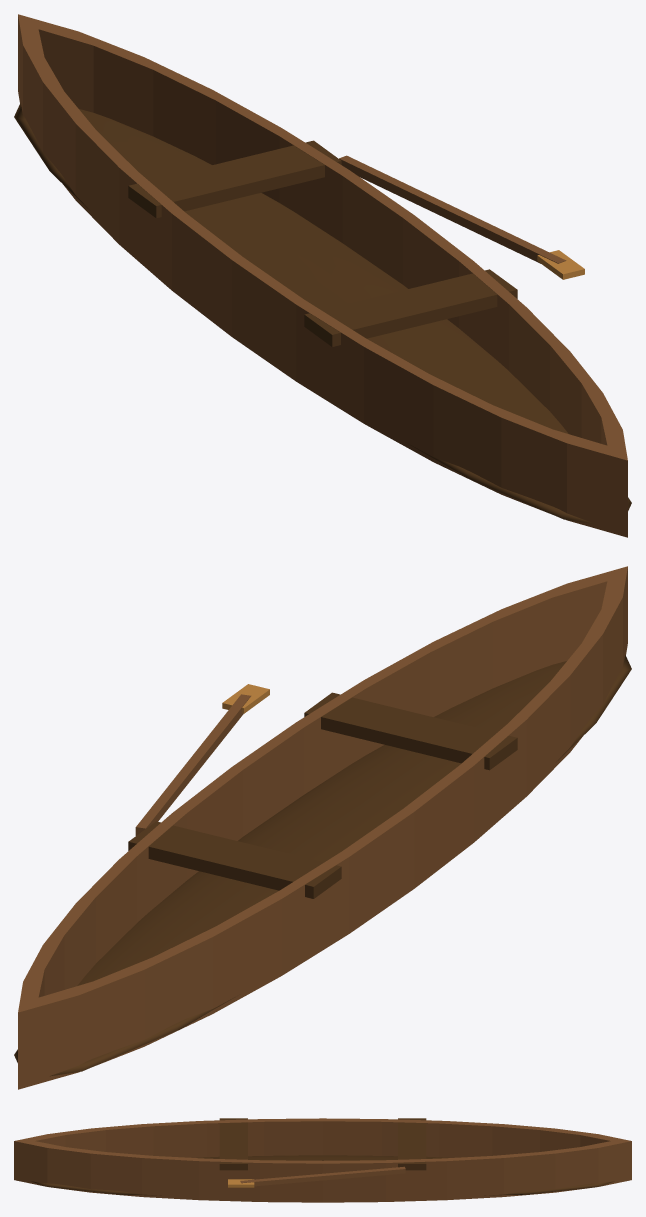
The model's file is mia-canoe.glb.
3 views of the same model, one above another, from view 1: azimuth 30°, elevation 25°; view 2: azimuth 150°, elevation 25°; view 3: azimuth 270°, elevation 25° (orthographic). The views are drawn at different scales.
Parts seen in each view (by area): view 1: Body_oak, Body_wood, Body_brass; view 2: Body_oak, Body_wood; view 3: Body_oak, Body_wood, Body_brass.
Part boxes in pixels (x1=…): Body_oak: x1=18, y1=14, x2=627, y2=537; Body_wood: x1=14, y1=103, x2=631, y2=524; Body_brass: x1=537, y1=250, x2=584, y2=279; Body_oak: x1=18, y1=566, x2=627, y2=1089; Body_wood: x1=14, y1=655, x2=631, y2=1076; Body_oak: x1=14, y1=1118, x2=631, y2=1202; Body_wood: x1=31, y1=1118, x2=614, y2=1195; Body_brass: x1=228, y1=1179, x2=254, y2=1187.
Size of the model in its own units: 1.03 by 0.324 by 4.16.
